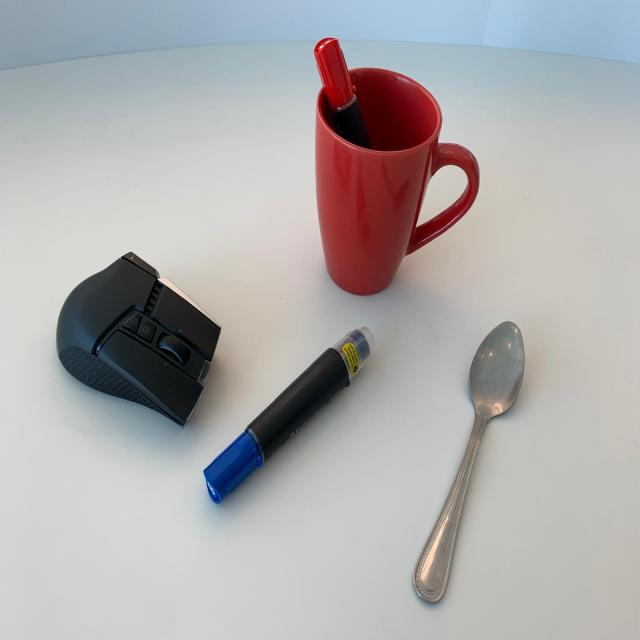Cup: (302, 27, 491, 305)
Mouse: (52, 238, 248, 434)
Spoon: (394, 310, 542, 616)
